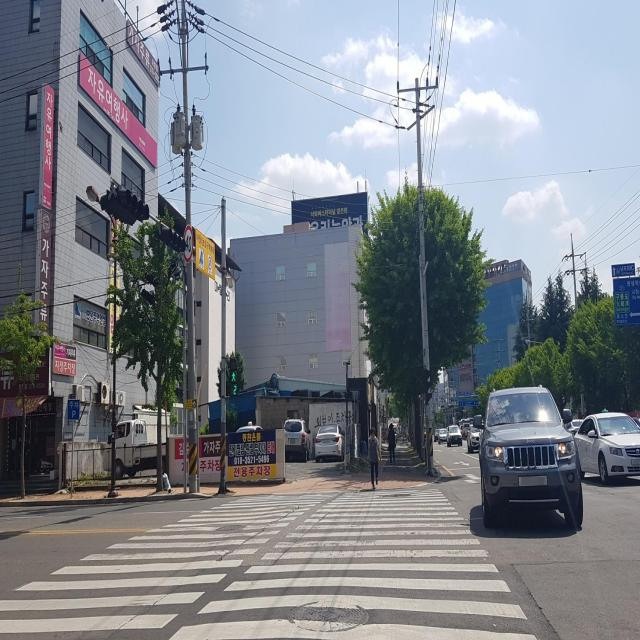초록불: (230, 355, 238, 398)
횡단보도: (1, 486, 539, 640)
